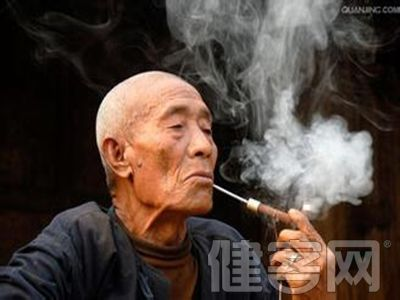smoke: (231, 65, 377, 204), (167, 1, 380, 63)
